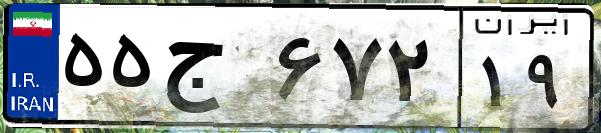1: (475, 38, 525, 113)
2: (385, 28, 445, 110)
5: (57, 26, 110, 100), (110, 28, 158, 98)
6: (270, 28, 330, 110)
7: (330, 28, 385, 110)
9: (525, 38, 570, 115)
ج: (158, 20, 270, 120)
